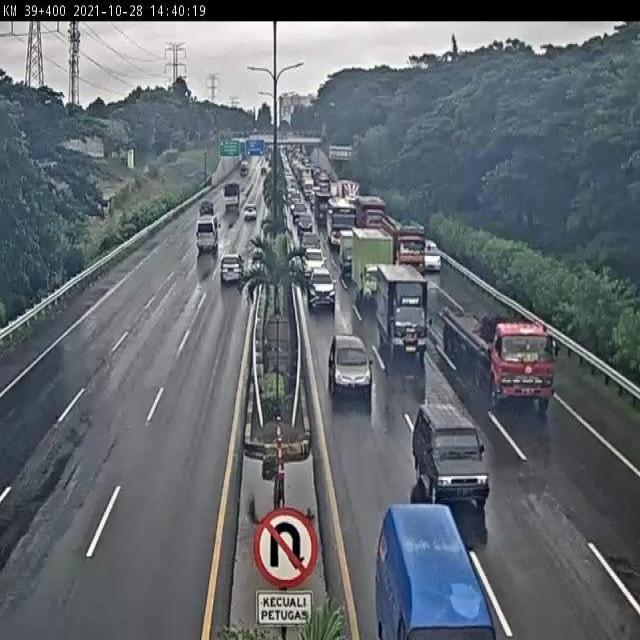bus-s-: (380, 506, 498, 640)
car: (413, 402, 491, 502), (328, 336, 372, 396), (307, 264, 338, 307), (220, 252, 246, 284), (423, 238, 444, 274), (305, 245, 326, 272)
small bus: (195, 213, 223, 252)
truck-l-: (385, 215, 424, 272)
truck-m-: (374, 267, 429, 357), (355, 228, 394, 308)
truck-s-: (336, 227, 354, 273)
truck-xl-: (442, 303, 558, 412)
